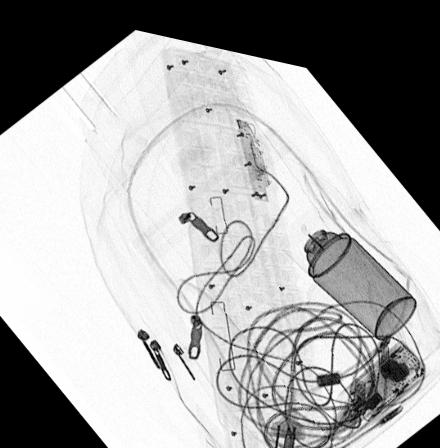Sprayer: (278, 189, 418, 323)
